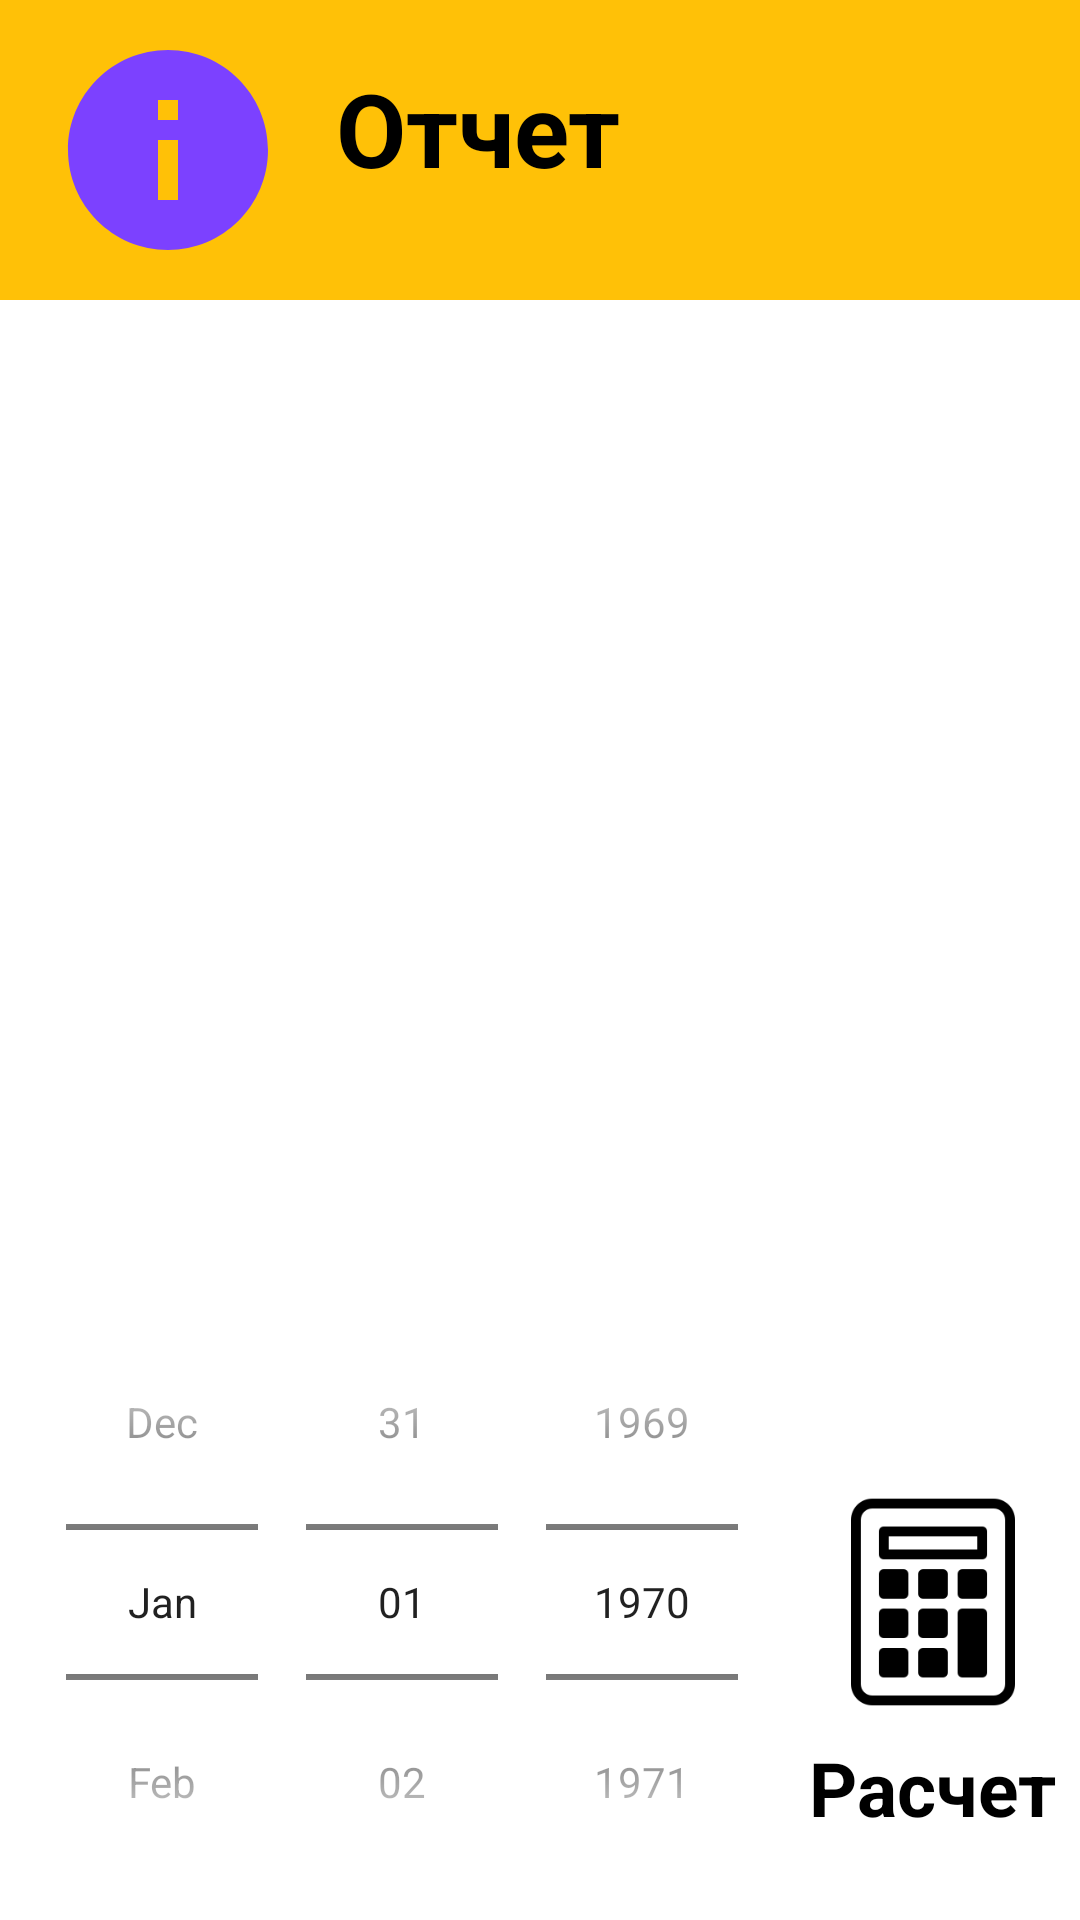

Icon click points for this 1080 × 1920 phone screenshot, format [x,y]:
calculator: [933,1602]
info month: [167,150]
